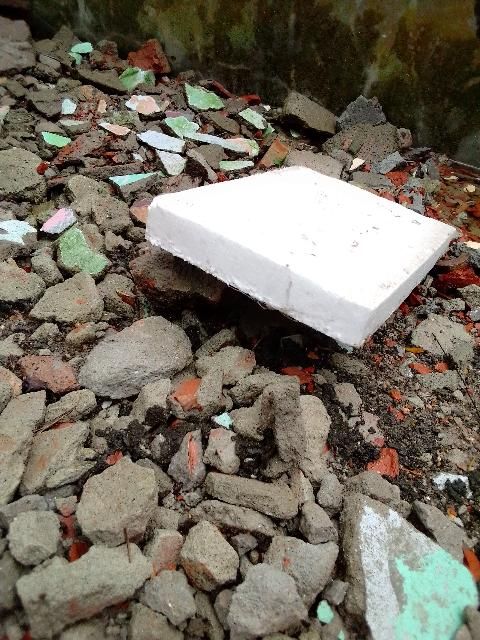cocksheet: (134, 152, 466, 360)
